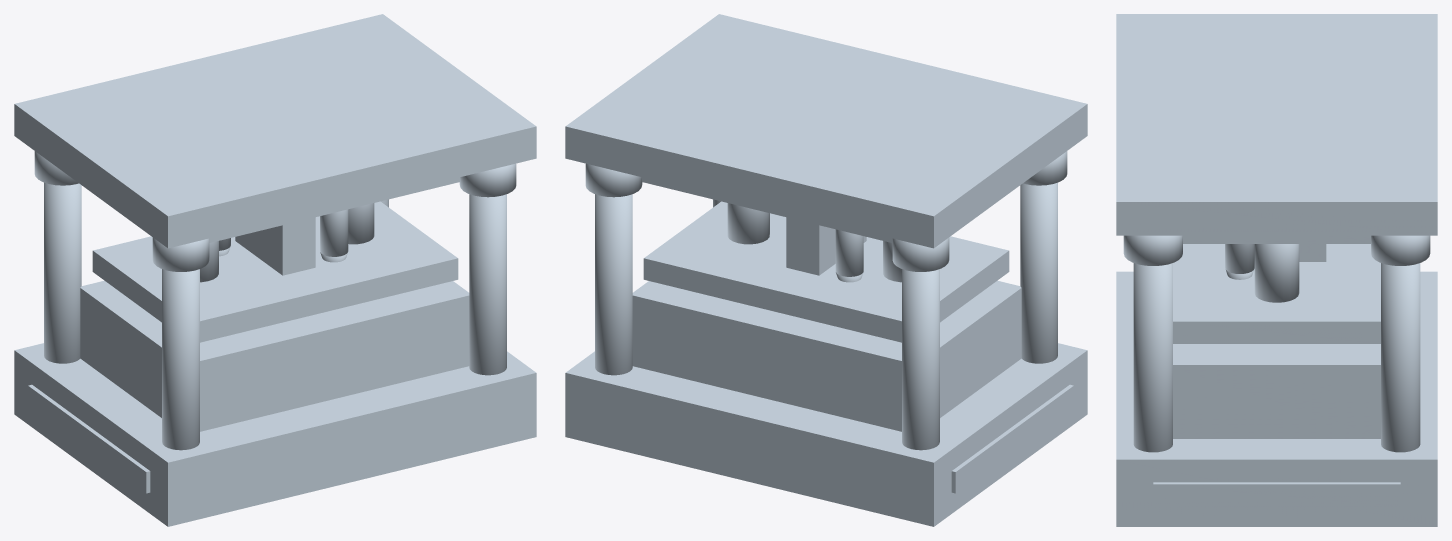
File: assembly-dies.glb
The picture shows the model from 3 angles, left to right: view 1: azimuth 30°, elevation 25°; view 2: azimuth 150°, elevation 25°; view 3: azimuth 270°, elevation 25°; orthographic projection. The views are drawn at different scales.
Bounding box in the file's own units: 1.84 × 1.45 × 1.3.
